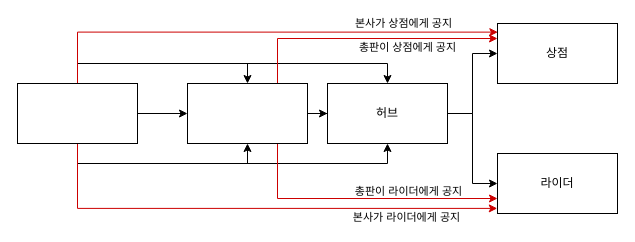
Some shapes in this 635 by 242 pixel diagram are drawn without their labels. Here are the shapes that lost their labels. From the top down, the centre of each, then its label:
At [77,113]: "본사".
At [247,113]: "총판".
